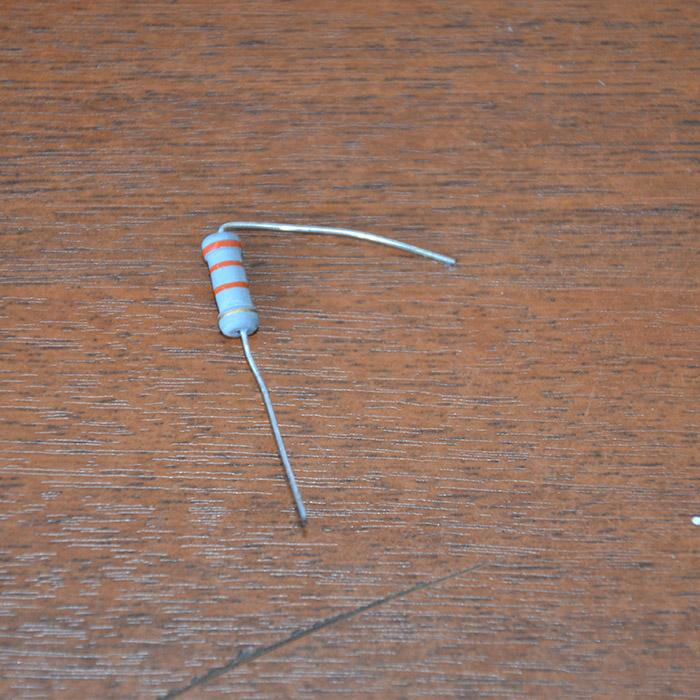resistor: (200, 230, 259, 336)
